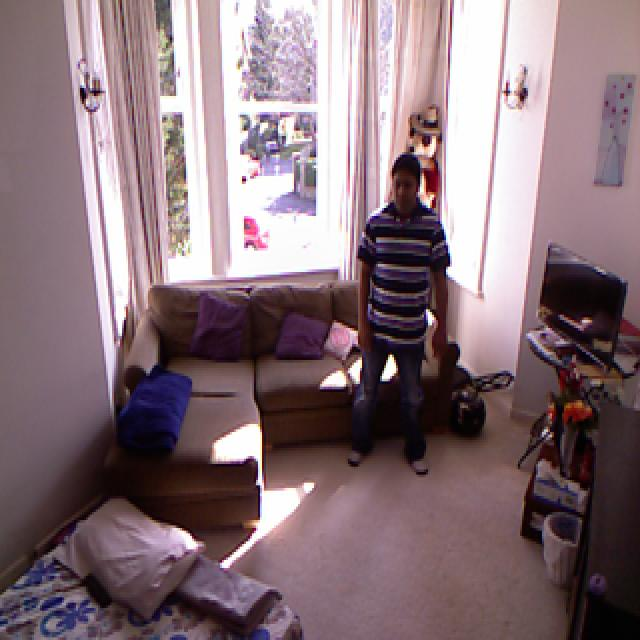standing: (346, 151, 448, 475)
